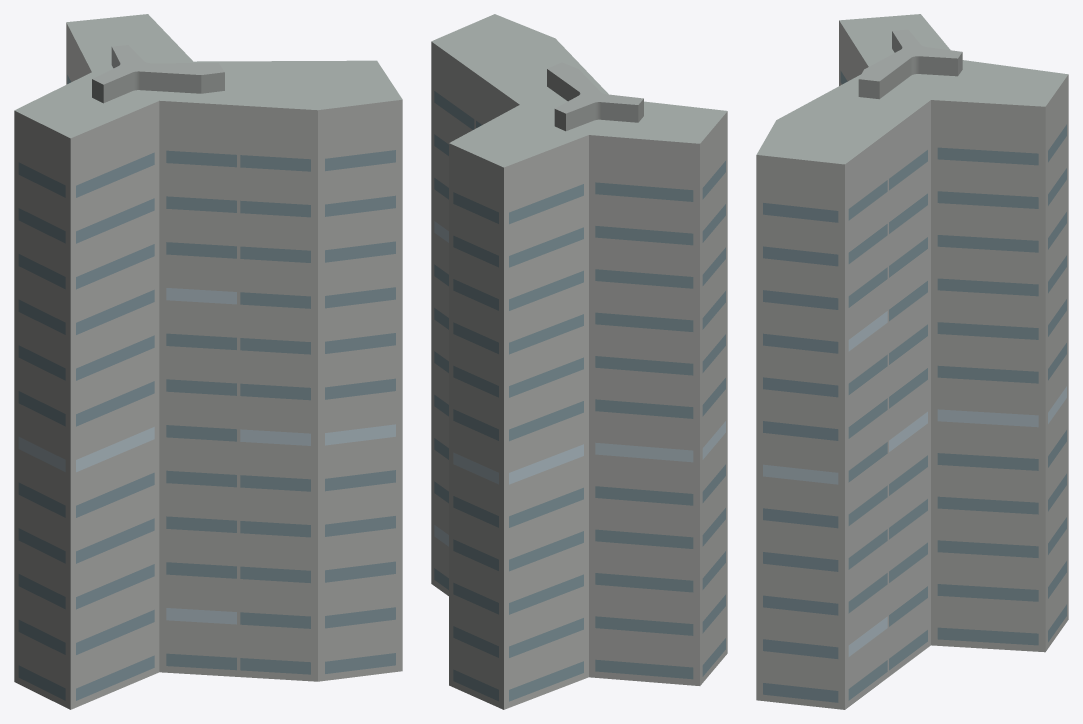
Rendered from fallback-godeok-raemian-hillstate-122.glb.
3 renders of one model, left to right at view 1: azimuth 30°, elevation 25°; view 2: azimuth 150°, elevation 25°; view 3: azimuth 270°, elevation 25°, orthographic. The views are drawn at different scales.
Parts seen in each view (by area): view 1: fallback-godeok-raemian-hillstate-122; view 2: fallback-godeok-raemian-hillstate-122; view 3: fallback-godeok-raemian-hillstate-122.
Boxes of the visible parts, <box> form: fallback-godeok-raemian-hillstate-122: <box>14,14,402,709</box>; fallback-godeok-raemian-hillstate-122: <box>431,14,727,709</box>; fallback-godeok-raemian-hillstate-122: <box>756,14,1068,709</box>.
Size of the model in its own units: 43.55 by 76 by 38.16.
